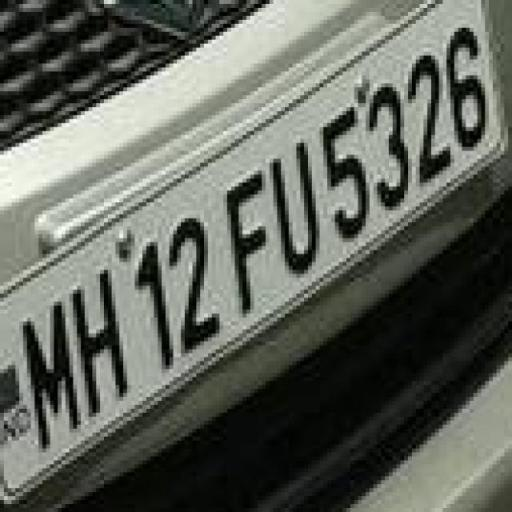number plate: (26, 95, 512, 425)
